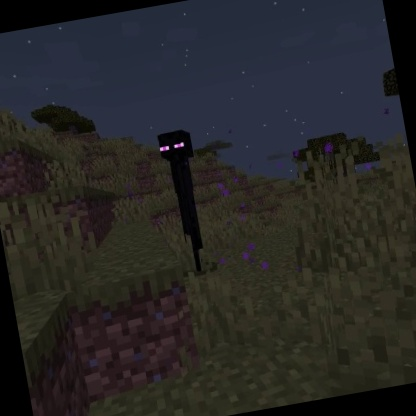enderman: (153, 126, 218, 276)
